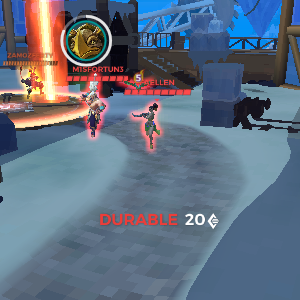model: (76, 83, 112, 148), (131, 102, 163, 162), (19, 67, 47, 105)
